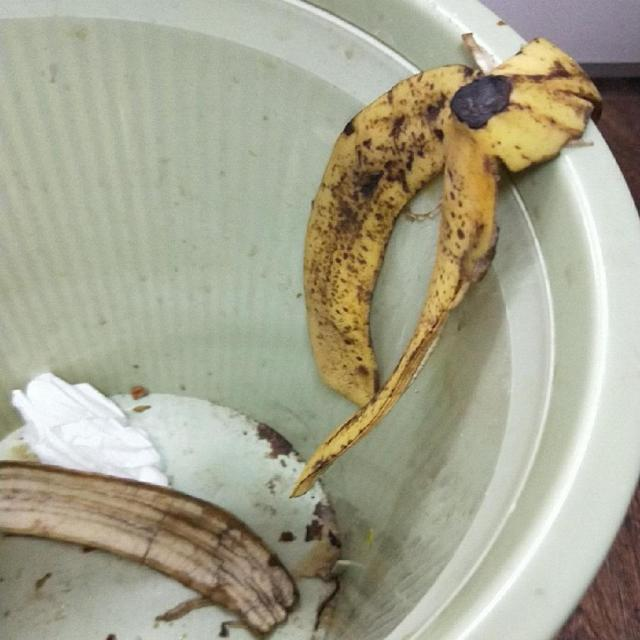Wet: (282, 29, 605, 498), (0, 459, 303, 639)
